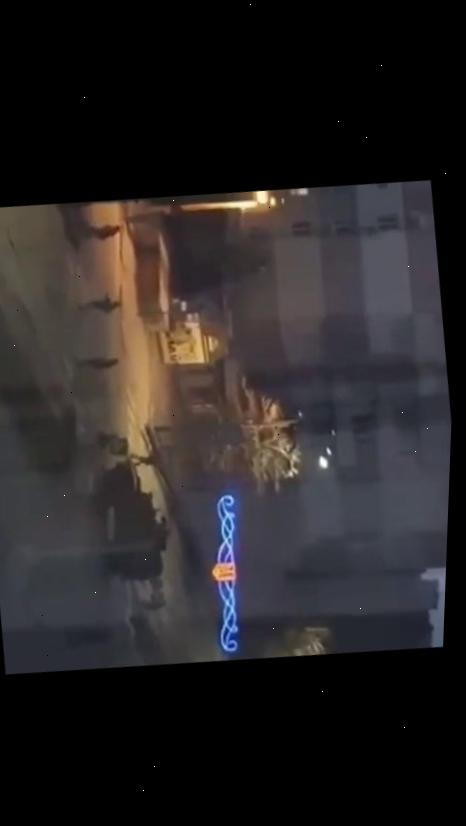armored_car: (89, 448, 176, 588)
person: (74, 288, 124, 317), (75, 218, 124, 244), (76, 350, 122, 375)
